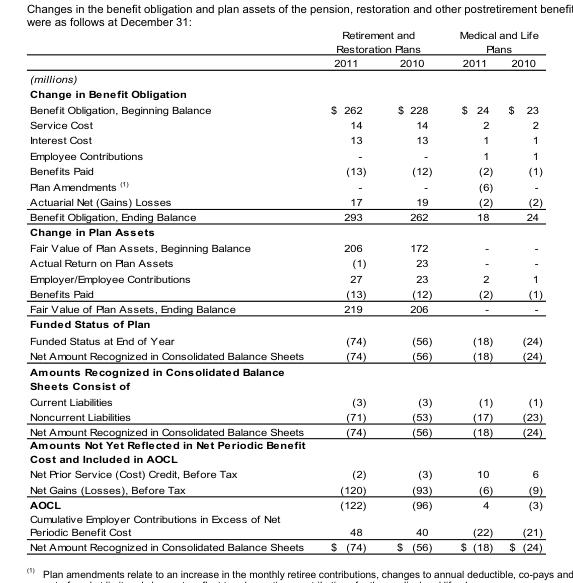table: (29, 28, 541, 552)
table column: (29, 28, 316, 552), (316, 28, 380, 552), (380, 28, 444, 552), (444, 28, 499, 552), (499, 28, 541, 552)
table column header: (29, 28, 541, 70)
table projected row header: (29, 363, 541, 393), (29, 437, 541, 466), (29, 315, 541, 332), (29, 85, 541, 101), (29, 70, 541, 85), (29, 224, 541, 239)
table row: (29, 363, 541, 393), (29, 437, 541, 466), (29, 511, 541, 539), (29, 28, 541, 55), (29, 315, 541, 332), (29, 85, 541, 101), (29, 116, 541, 132), (29, 147, 541, 163), (29, 178, 541, 194), (29, 239, 541, 255), (29, 332, 541, 348), (29, 55, 541, 70), (29, 70, 541, 85), (29, 101, 541, 116), (29, 132, 541, 147), (29, 163, 541, 178), (29, 194, 541, 209), (29, 209, 541, 224), (29, 224, 541, 239), (29, 255, 541, 270), (29, 270, 541, 285), (29, 285, 541, 300), (29, 300, 541, 315), (29, 348, 541, 363), (29, 393, 541, 408), (29, 408, 541, 423), (29, 466, 541, 481), (29, 481, 541, 496), (29, 496, 541, 511), (29, 423, 541, 437), (29, 539, 541, 552)
table spanning cell: (316, 28, 444, 55), (444, 28, 541, 55)
